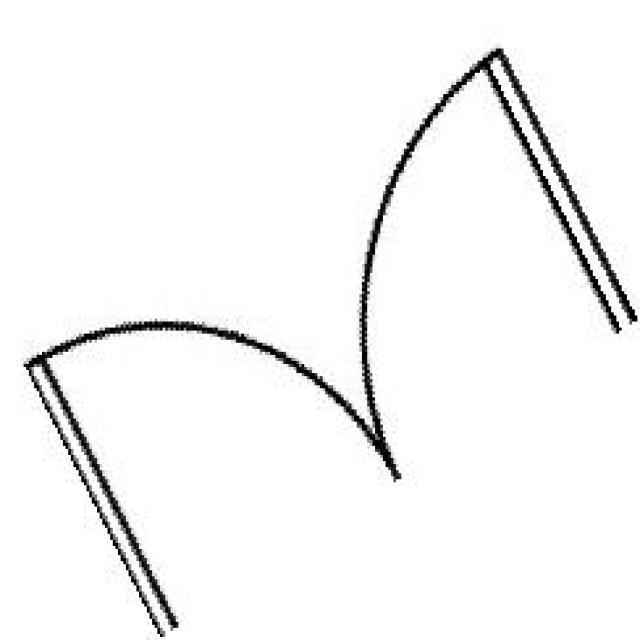door: (18, 45, 632, 628)
